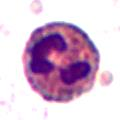neutrophil: (25, 21, 103, 105)
